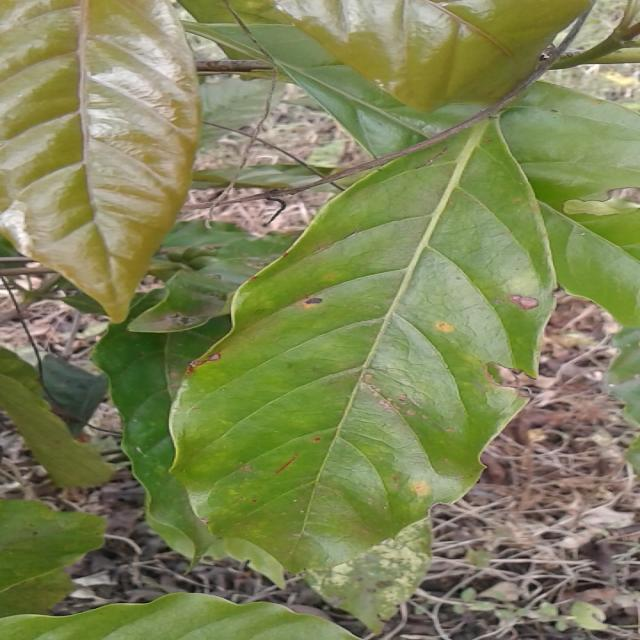Enfermedad-Roya: (168, 120, 556, 586)
